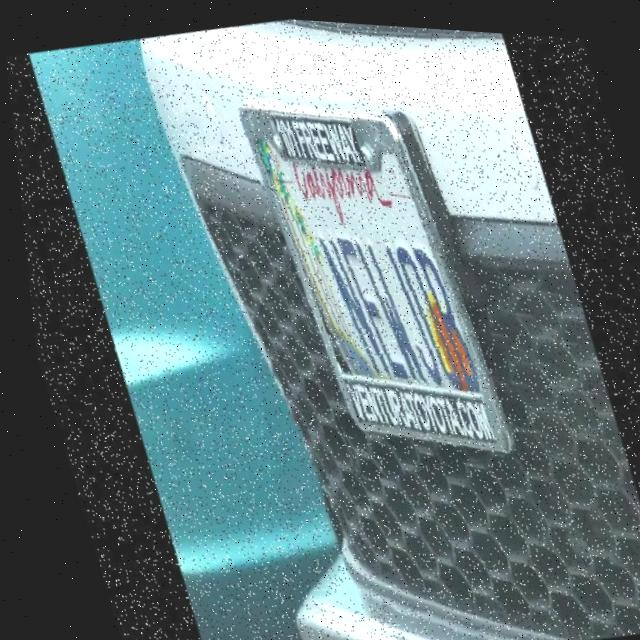LicensePlate: (233, 66, 515, 486)
